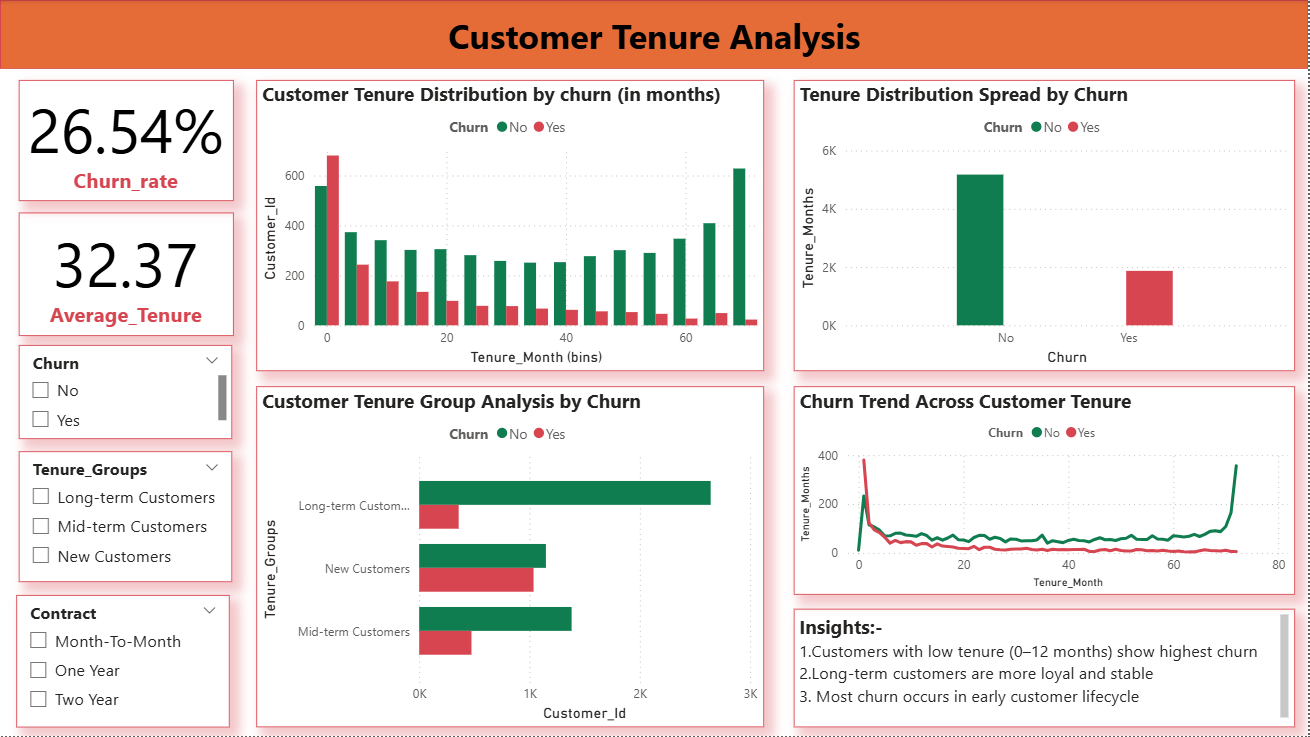

What the dashboard file says about the page in this screenshot:
{"tool":"powerbi","page":{"name":"Page 3","canvas":[1280,720],"ordinal":2},"visuals":[{"type":"shape","box":[0,0,1280,67.6],"z":0},{"type":"clusteredColumnChart","title":"Customer Tenure Distribution by churn (in months)","fields":{"Y":["CountNonNull(Telco_Customer_Churn_Dataset.Customer_ID)"],"Series":["Telco_Customer_Churn_Dataset.Churn"],"Category":["Telco_Customer_Churn_Dataset.Tenure_Month (bins)"]},"box":[250.7,78.3,496.5,284.9],"z":1000},{"type":"clusteredBarChart","title":"Customer Tenure Group Analysis by Churn","fields":{"Category":["Telco_Customer_Churn_Dataset.Tenure_Groups"],"Y":["CountNonNull(Telco_Customer_Churn_Dataset.Customer_ID)"],"Series":["Telco_Customer_Churn_Dataset.Churn"]},"box":[250.7,377.9,496.5,333.8],"z":2000},{"type":"clusteredColumnChart","title":"Tenure Distribution Spread by Churn ","fields":{"Category":["Telco_Customer_Churn_Dataset.Churn"],"Series":["Telco_Customer_Churn_Dataset.Churn"],"Y":["CountNonNull(Telco_Customer_Churn_Dataset.Tenure_Month (bins))"]},"box":[776.5,78.3,490.4,284.9],"z":3000},{"type":"card","fields":{"Values":["Telco_Customer_Churn_Dataset.Average_Tenure"]},"box":[18.3,207.9,210.3,121.1],"z":4000},{"type":"textbox","box":[776.5,595.5,490.4,116.2],"z":5000},{"type":"slicer","fields":{"Values":["Telco_Customer_Churn_Dataset.Churn"]},"box":[18.3,337.5,209.1,91.7],"z":6000},{"type":"slicer","fields":{"Values":["Telco_Customer_Churn_Dataset.Tenure_Groups"]},"box":[18.3,441.4,209.1,128.4],"z":7000},{"type":"slicer","fields":{"Values":["Telco_Customer_Churn_Dataset.Contract"]},"box":[15.9,582.1,209.1,129.6],"z":8000},{"type":"lineChart","title":" Churn Trend Across Customer Tenure","fields":{"Y":["CountNonNull(Telco_Customer_Churn_Dataset.Customer_ID)"],"Series":["Telco_Customer_Churn_Dataset.Churn"],"Category":["Telco_Customer_Churn_Dataset.Tenure_Month"]},"box":[776.5,377.9,490.4,204.2],"z":9000},{"type":"card","fields":{"Values":["Telco_Customer_Churn_Dataset.Churn_rate"]},"box":[18.3,78.3,210.3,118.6],"z":10000}]}

Visuals, with their boxes in screenshot pixels (x1, y1, x2, y2), scaled from the page's 1280x720 canvas onto the 1310x737 screenshot:
shape: <region>0, 0, 1309, 69</region>
"Customer Tenure Distribution by churn (in months)" clusteredColumnChart: <region>257, 80, 765, 372</region>
"Customer Tenure Group Analysis by Churn" clusteredBarChart: <region>257, 387, 765, 729</region>
"Tenure Distribution Spread by Churn " clusteredColumnChart: <region>795, 80, 1297, 372</region>
card - Telco_Customer_Churn_Dataset.Average_Tenure: <region>19, 213, 234, 337</region>
textbox: <region>795, 610, 1297, 729</region>
slicer - Telco_Customer_Churn_Dataset.Churn: <region>19, 345, 233, 439</region>
slicer - Telco_Customer_Churn_Dataset.Tenure_Groups: <region>19, 452, 233, 583</region>
slicer - Telco_Customer_Churn_Dataset.Contract: <region>16, 596, 230, 729</region>
" Churn Trend Across Customer Tenure" lineChart: <region>795, 387, 1297, 596</region>
card - Telco_Customer_Churn_Dataset.Churn_rate: <region>19, 80, 234, 202</region>
